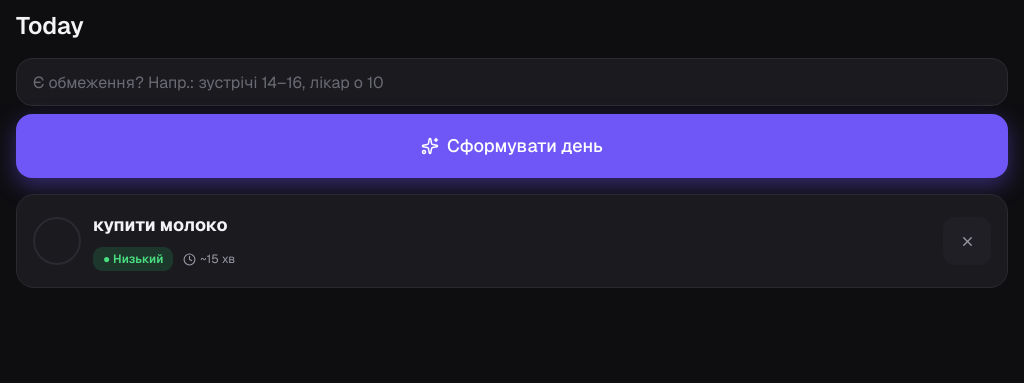
Test: TodayPage › Сформувати день › shows the time summary and today-count subtitle after a successful plan
This screenshot has width=1024, height=383.
Click the button "Сформувати день" at (512, 146), box x1=16 y1=114 x2=1008 y2=178
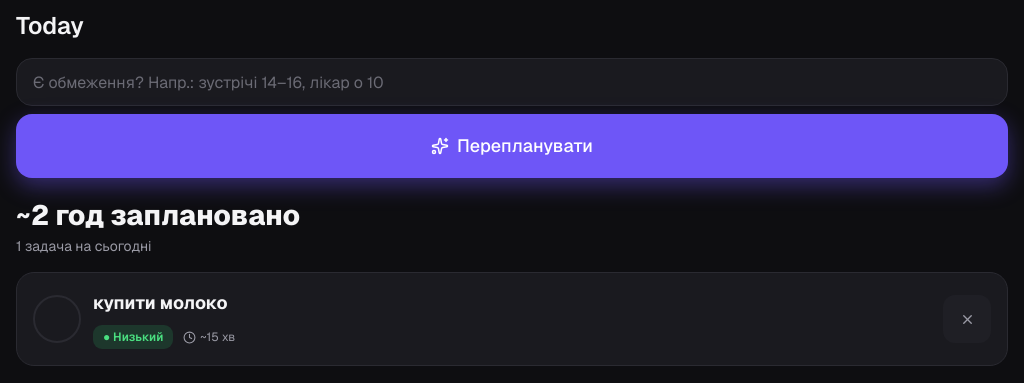
Result: the text "~2 год заплановано" is shown at x1=16 y1=197 x2=300 y2=233
Result: the text "1 задача на сьогодні" is shown at x1=16 y1=237 x2=152 y2=255
